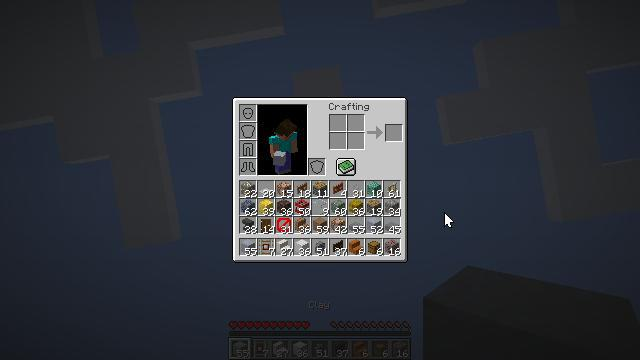cursor: (444, 212, 454, 228)
